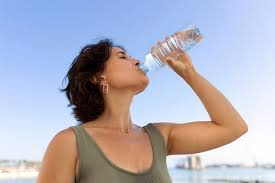Botella: (140, 26, 202, 73)
